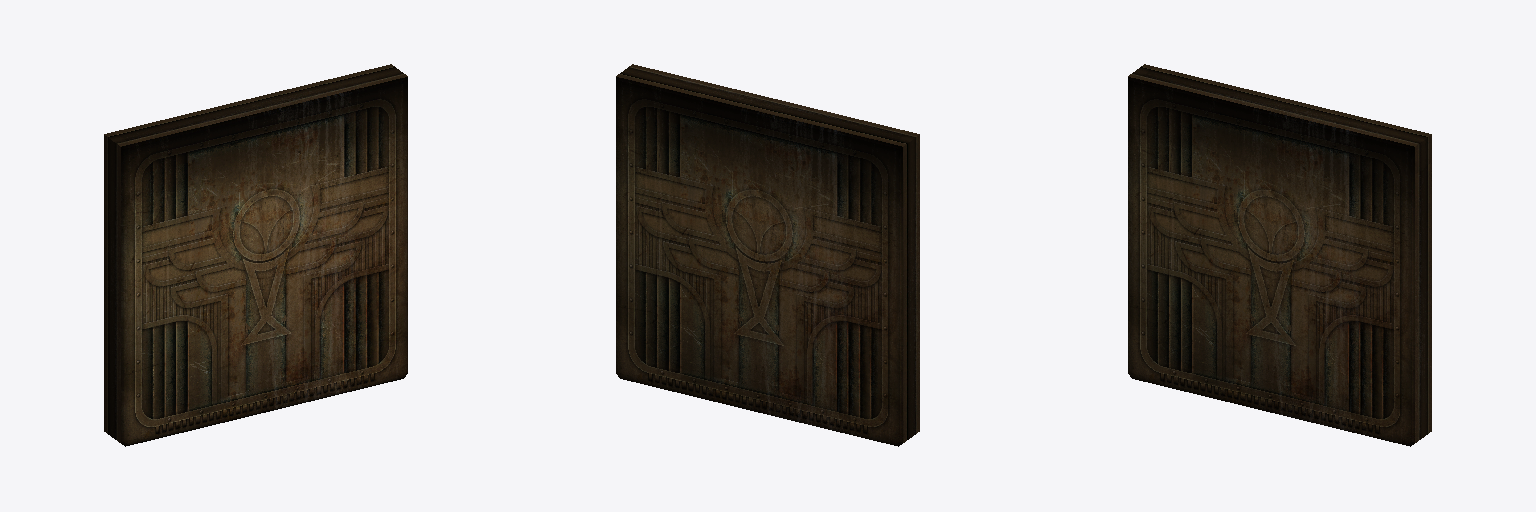
3 views of the same model, side by side, from view 1: azimuth 30°, elevation 25°; view 2: azimuth 150°, elevation 25°; view 3: azimuth 330°, elevation 25° (orthographic).
Visible parts, largest first — view 1: Door_Alternate_Closed; view 2: Door_Alternate_Closed; view 3: Door_Alternate_Closed.
Part boxes in pixels (bbox=[...]): Door_Alternate_Closed: bbox=[104, 64, 407, 446]; Door_Alternate_Closed: bbox=[616, 64, 919, 446]; Door_Alternate_Closed: bbox=[1128, 64, 1431, 446].
Size of the model in its own units: 256 by 256 by 29.61.
1 materials, 1 textured.